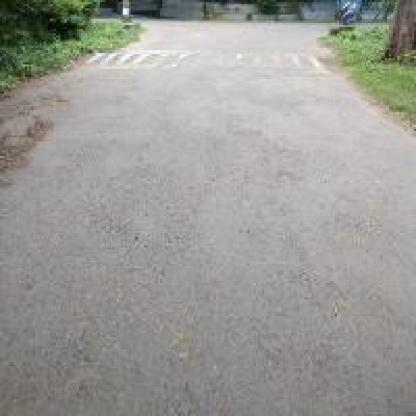Speed Bump: (73, 46, 324, 70)
